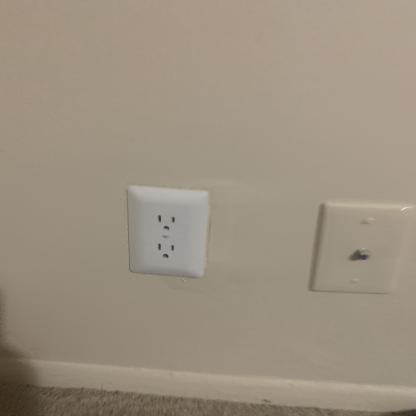OUTLET: (126, 184, 210, 276)
